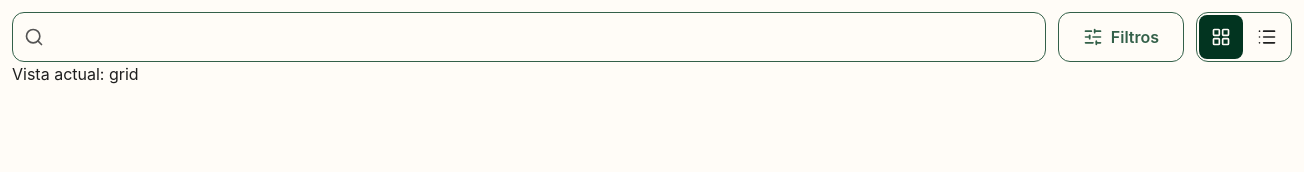
Test: SegmentedControl › grupo con nombre y una opción presionada; cambia al pulsar
The width and height of the screenshot is (1304, 172).
Step 1. Click the button named "Lista" → (1267, 37), box [1245,15,1289,59]
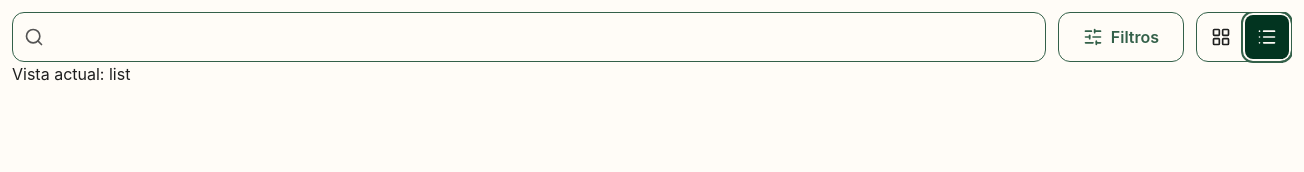
expect the text "Vista actual: list" is shown: met, box [12,64,130,84]
